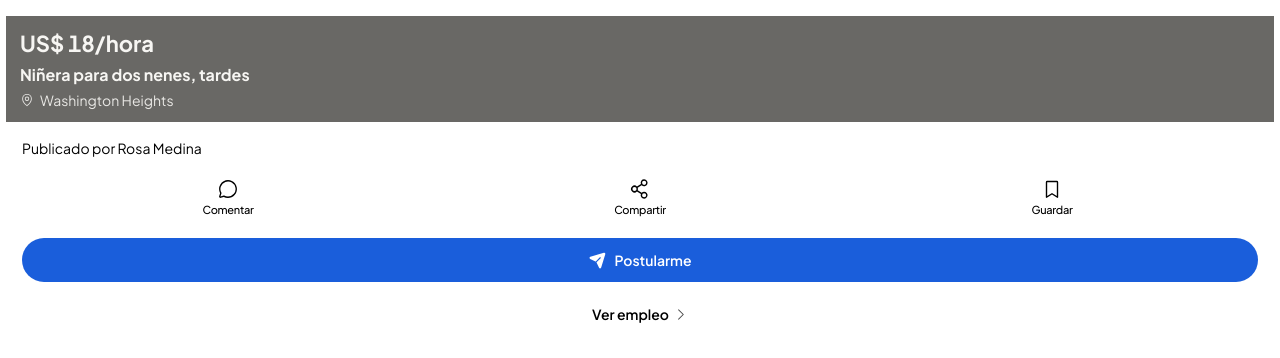
JobCard: postularse se resuelve en la lista › si el aviso es suyo lo explica en una línea, sin cartel de error
(page scrolled)
Click the button with aria-label "postularme a ": (640, 260) [22,238,1258,282]
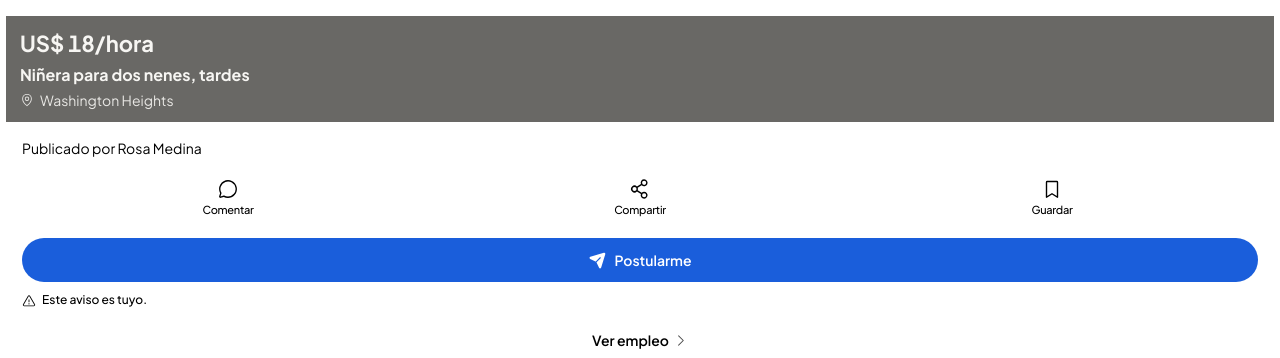
Expected: the text "Este aviso es tuyo." is shown, [22,292,147,308]
